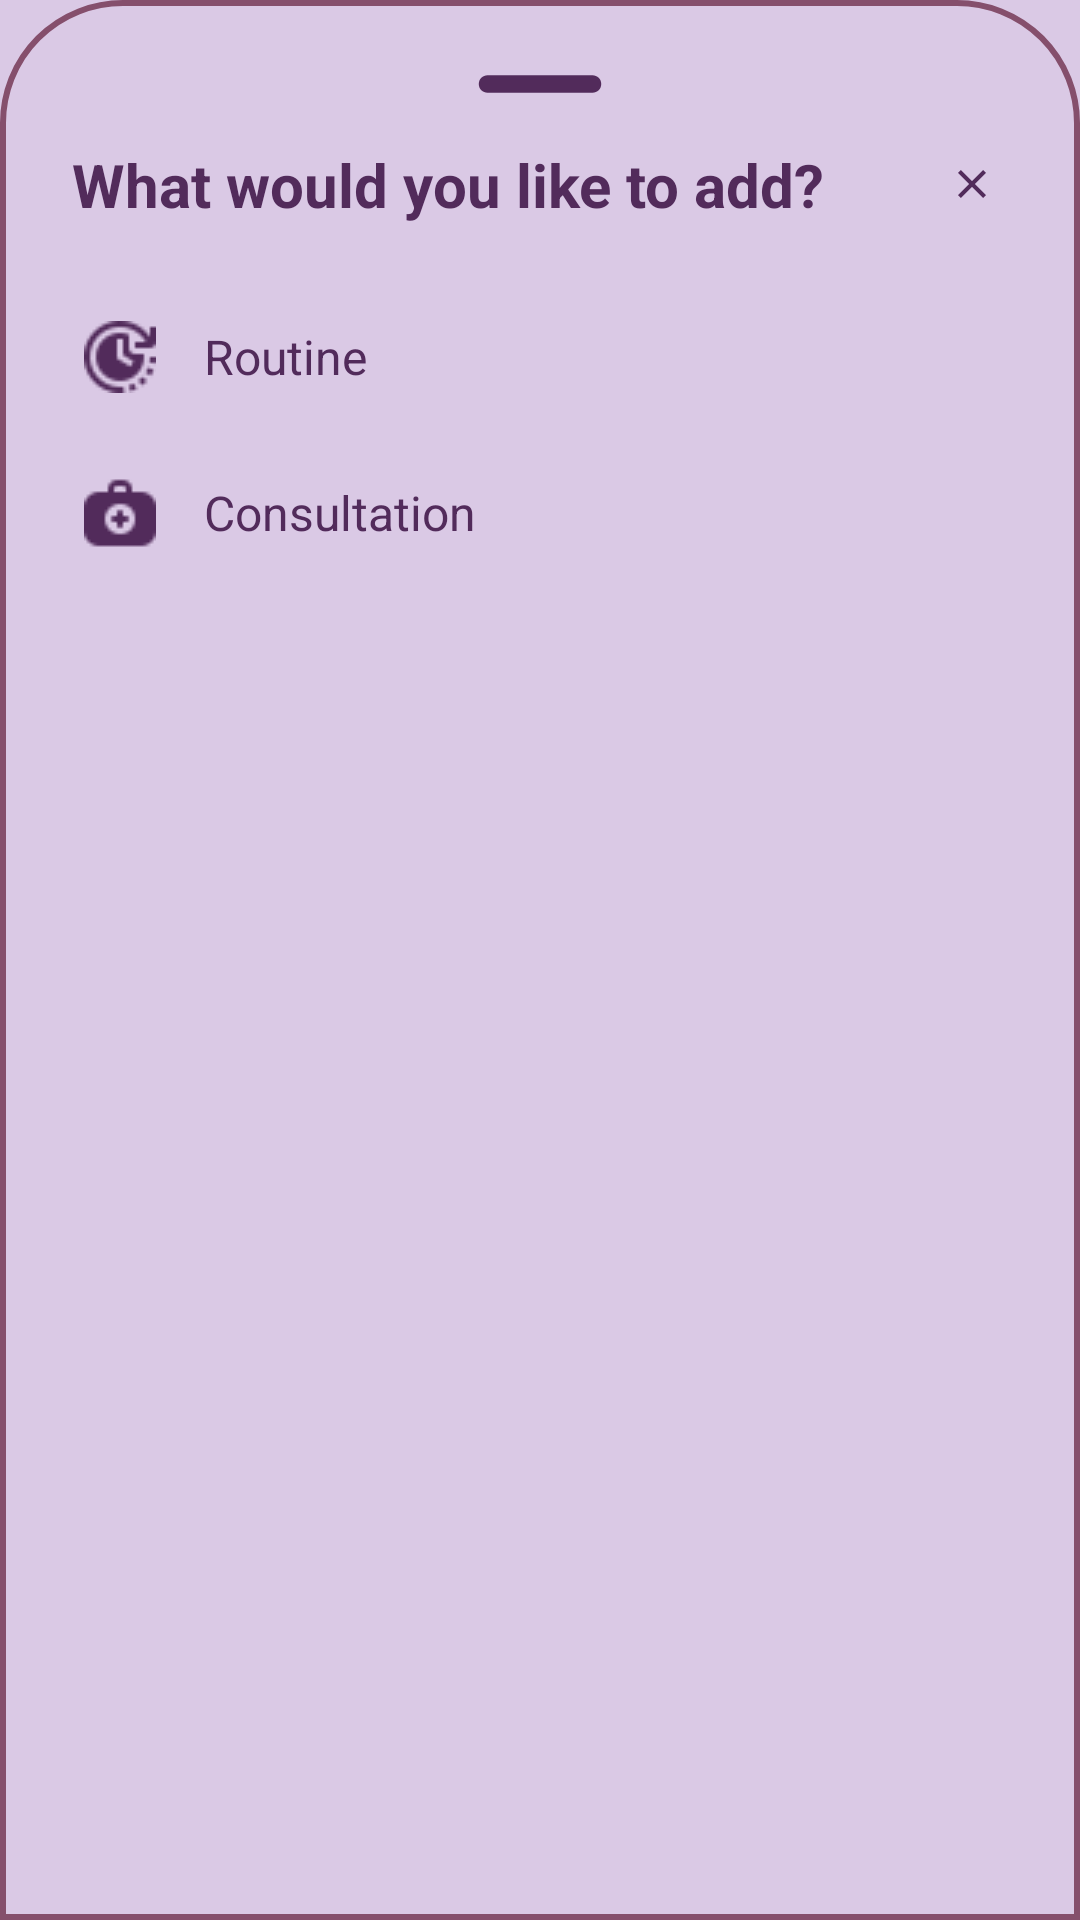

Where to tap for icons on this 1080 x 1920 app screen, as point (x, y):
Close: point (972, 184)
